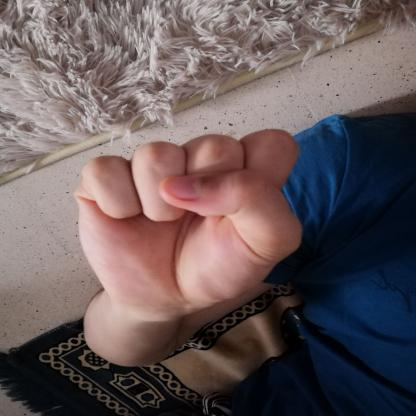SAD: (41, 117, 335, 339)
